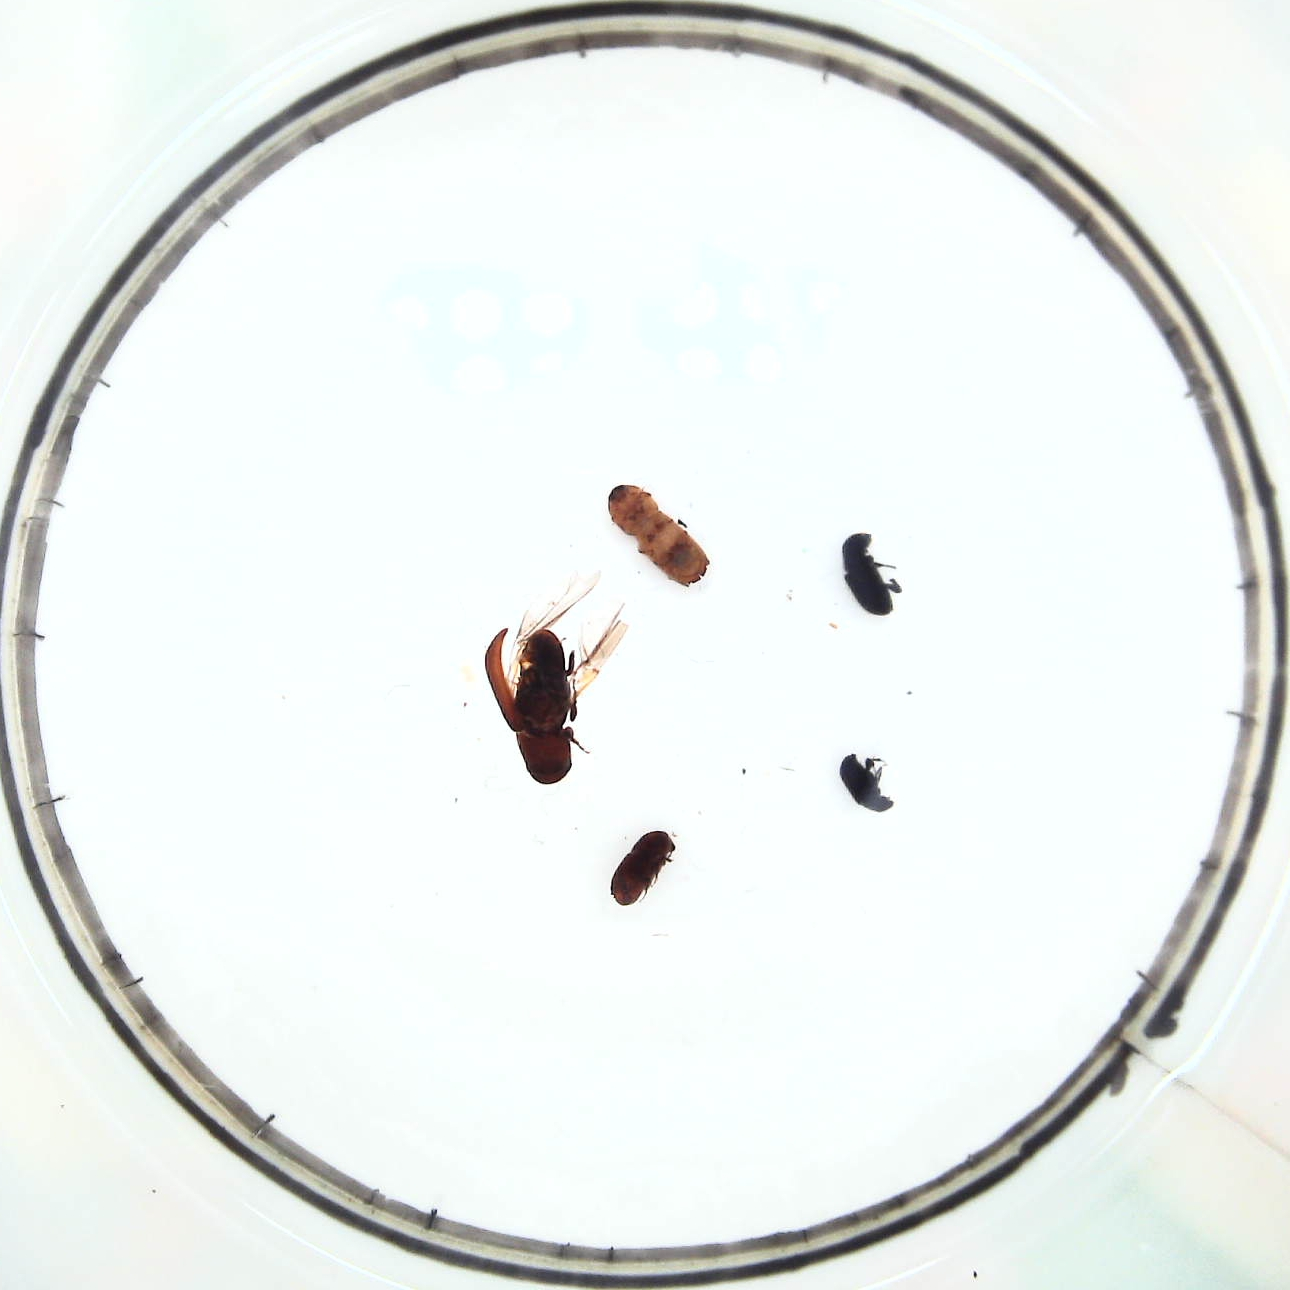Boerner: (604, 482, 712, 586)
Leconte: (487, 614, 582, 783)
Linnaeus: (610, 828, 675, 907)
armandi: (840, 530, 907, 613)
coleoptera: (839, 752, 892, 817)
